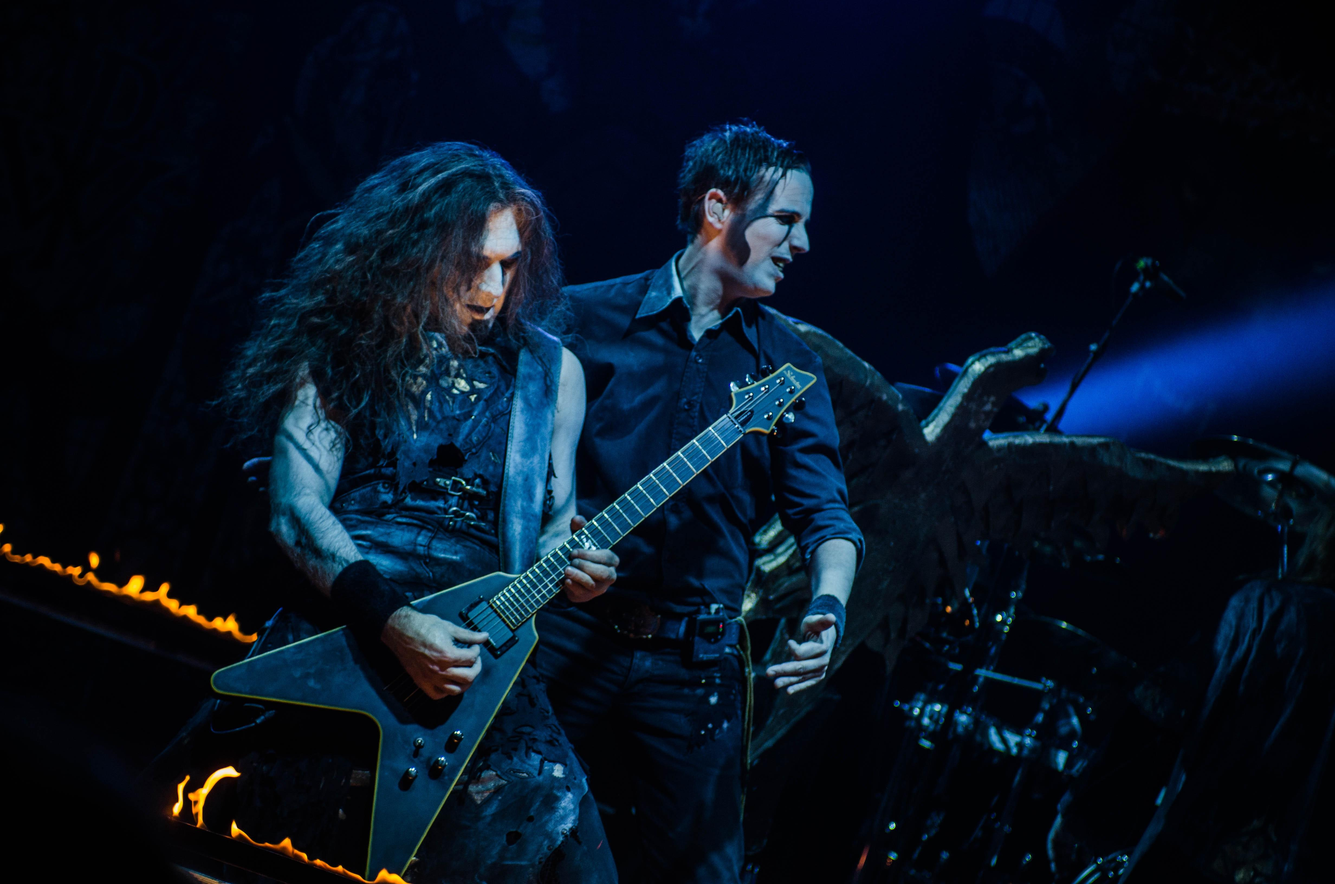acousticguitar: (205, 359, 820, 879)
